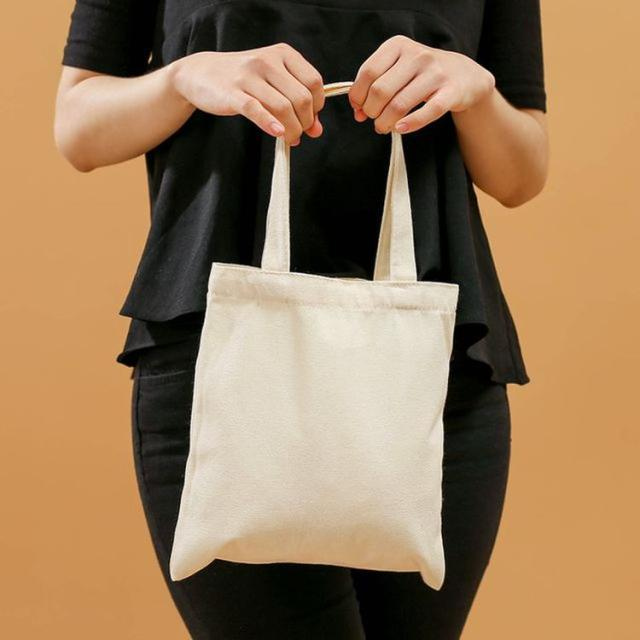ecobag: (167, 64, 493, 617)
